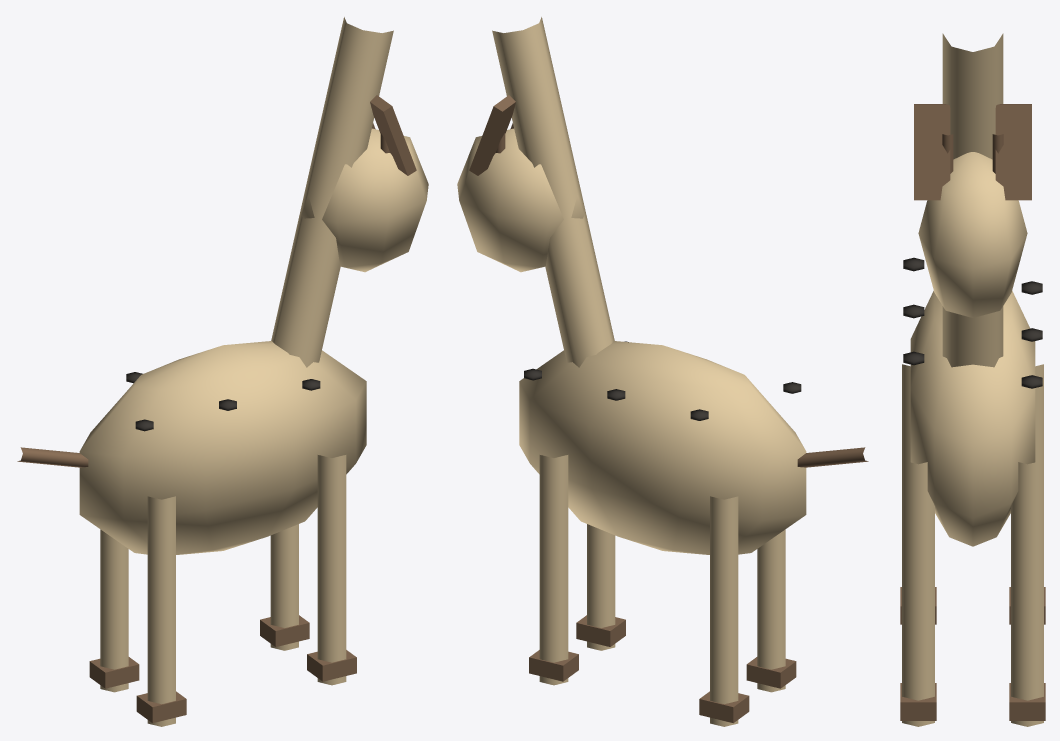
File: giraffe.glb
The picture shows the model from 3 angles, left to right: view 1: azimuth 30°, elevation 25°; view 2: azimuth 150°, elevation 25°; view 3: azimuth 270°, elevation 25°; orthographic projection. The views are drawn at different scales.
Visible parts, largest first — view 1: giraffe; view 2: giraffe; view 3: giraffe.
Boxes of the visible parts, x1,y1,x2,y2 form: giraffe: [17, 17, 428, 726]; giraffe: [457, 17, 868, 726]; giraffe: [900, 33, 1045, 726].
Bounding box in the file's own units: 2.18 × 3.17 × 0.576.
